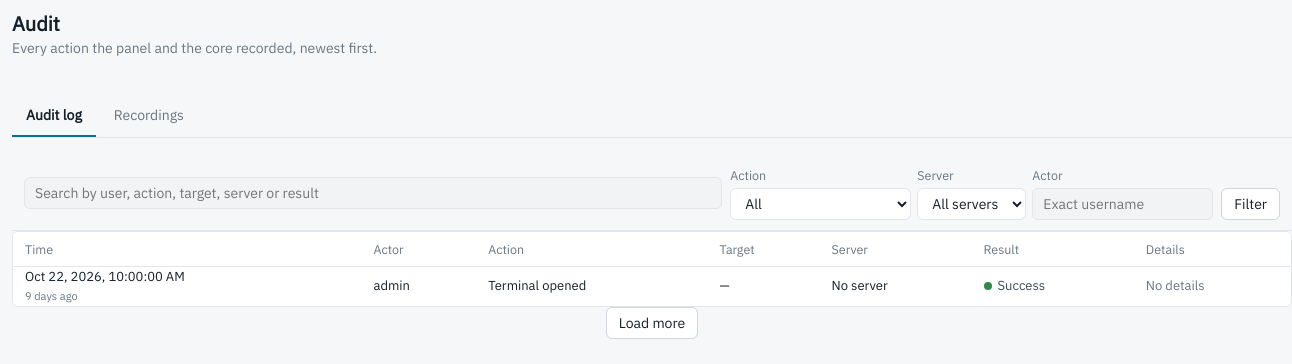
Audit › loads the next page with the cursor and appends it
This screenshot has width=1292, height=364.
Expected: the text "Terminal opened" is shown, [476,266,708,306]
Click the button "Load more".
click(652, 323)  # box [606,307,698,339]
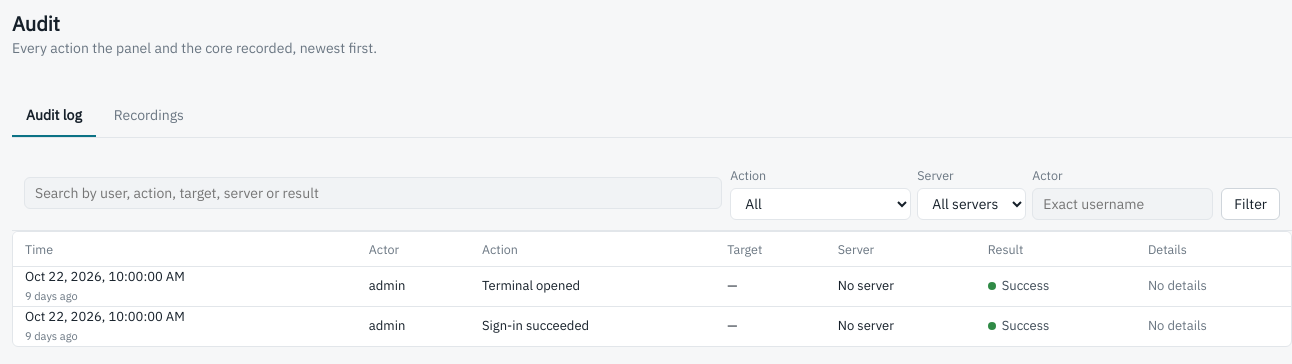
Expected: the text "Terminal opened" is shown, [470,266,715,306]
Now the text "Sign-in succeeded" is shown, box [470,306,715,346]
